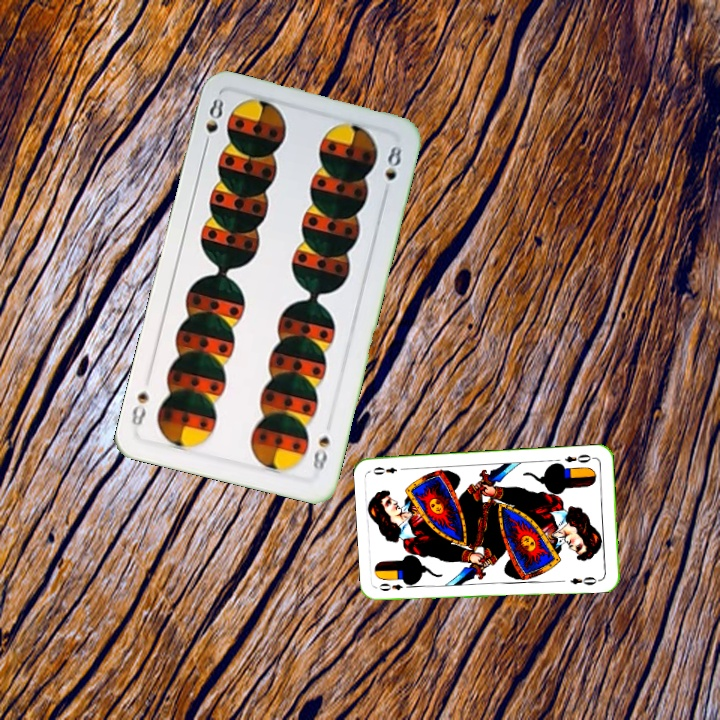EO: (560, 450, 597, 465), (375, 580, 405, 594)
S8: (200, 93, 226, 152), (308, 432, 333, 478)
